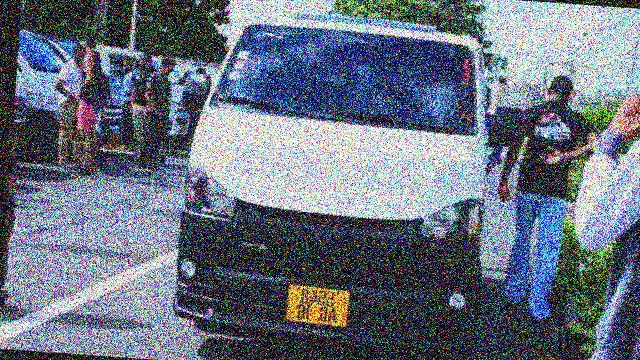van: (166, 8, 502, 355)
